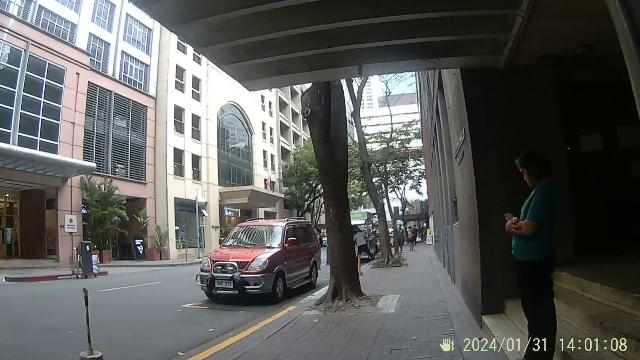tree: (304, 86, 372, 305)
